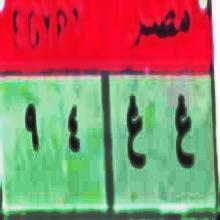4: (65, 104, 82, 156)
9: (22, 101, 40, 157)
ghayn: (172, 90, 194, 172), (126, 93, 145, 175)
